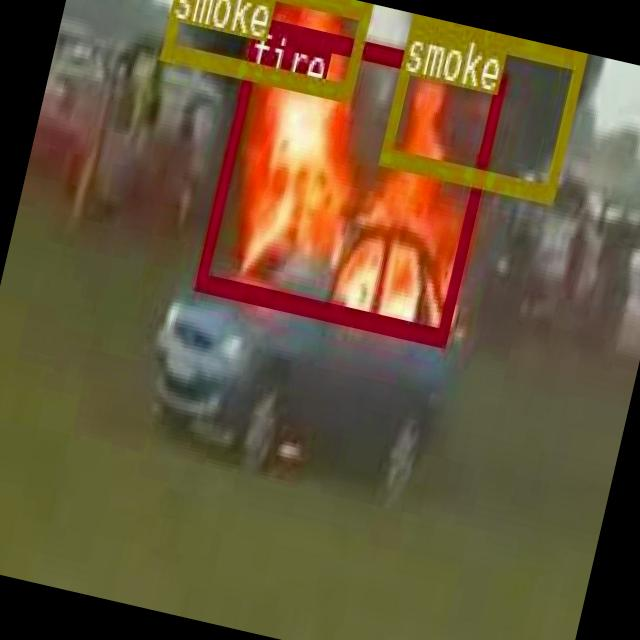fire: (194, 14, 506, 341)
smoke: (378, 13, 586, 198), (160, 0, 370, 95)
